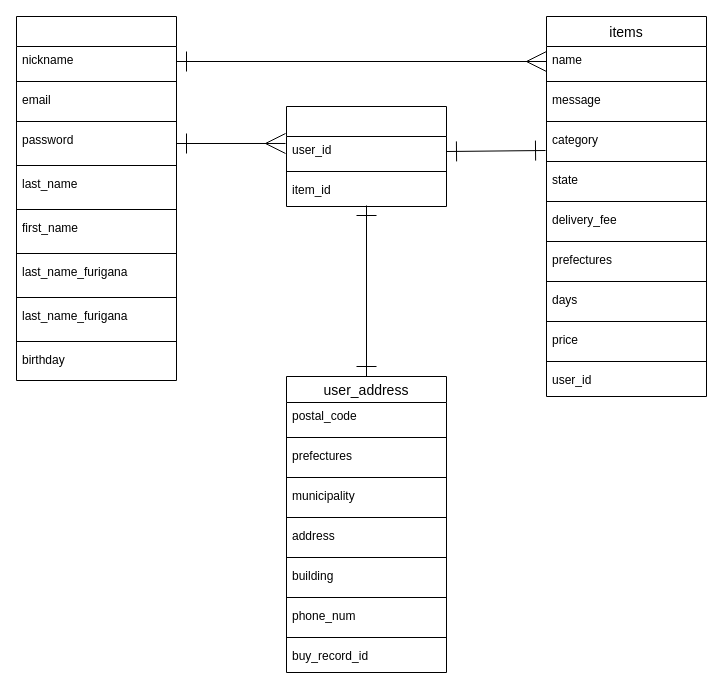
The diagram is 723 pixels wide and 689 high, and some of its shapes have lost their labels. Here are the shapes that lost their labels. From the top down, the box of each, then its label:
(286, 106, 446, 206): buy_records
(16, 16, 176, 380): users
